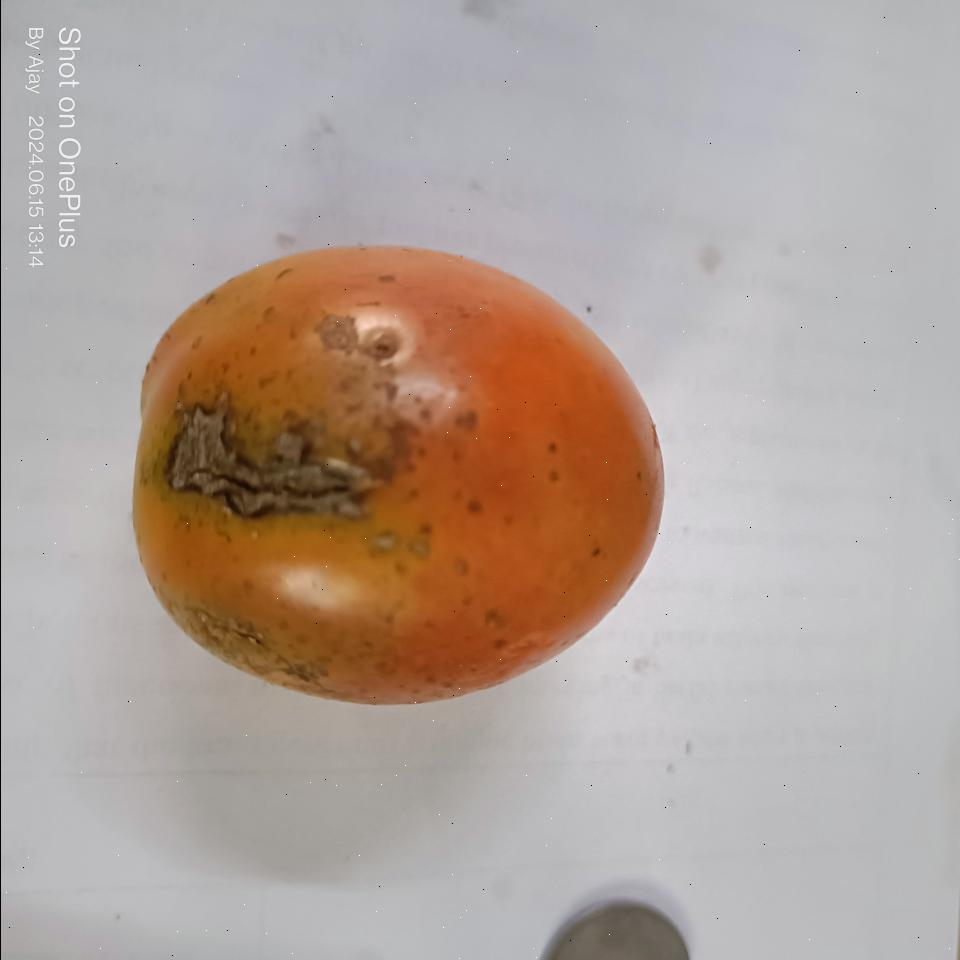Bacterial_Spot: (144, 392, 414, 518)
